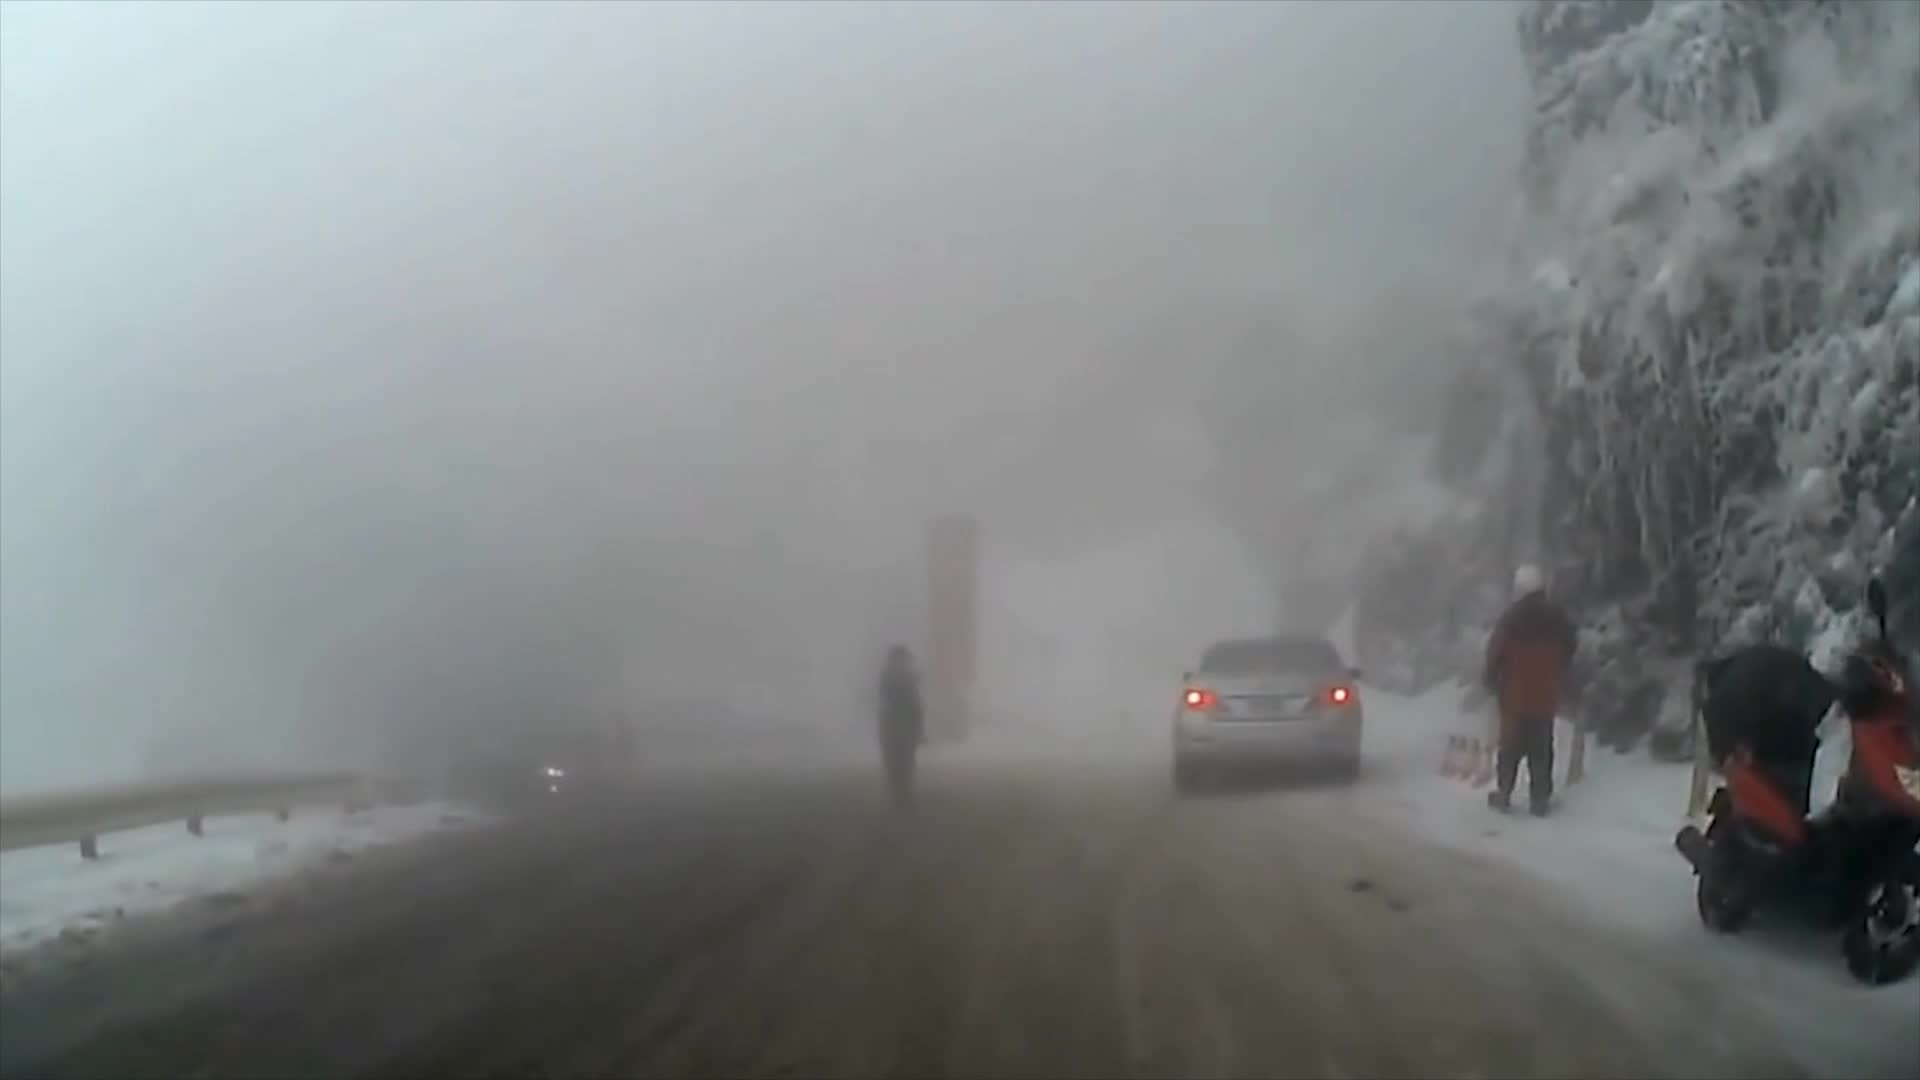pedestrian: (1482, 560, 1589, 817), (875, 643, 928, 812)
vehicle: (1171, 634, 1367, 795)
